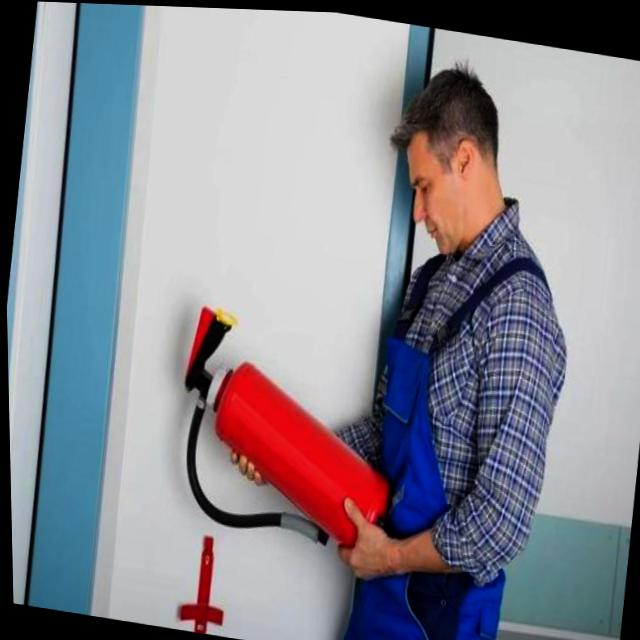FireExtinguisher: (158, 290, 414, 560)
